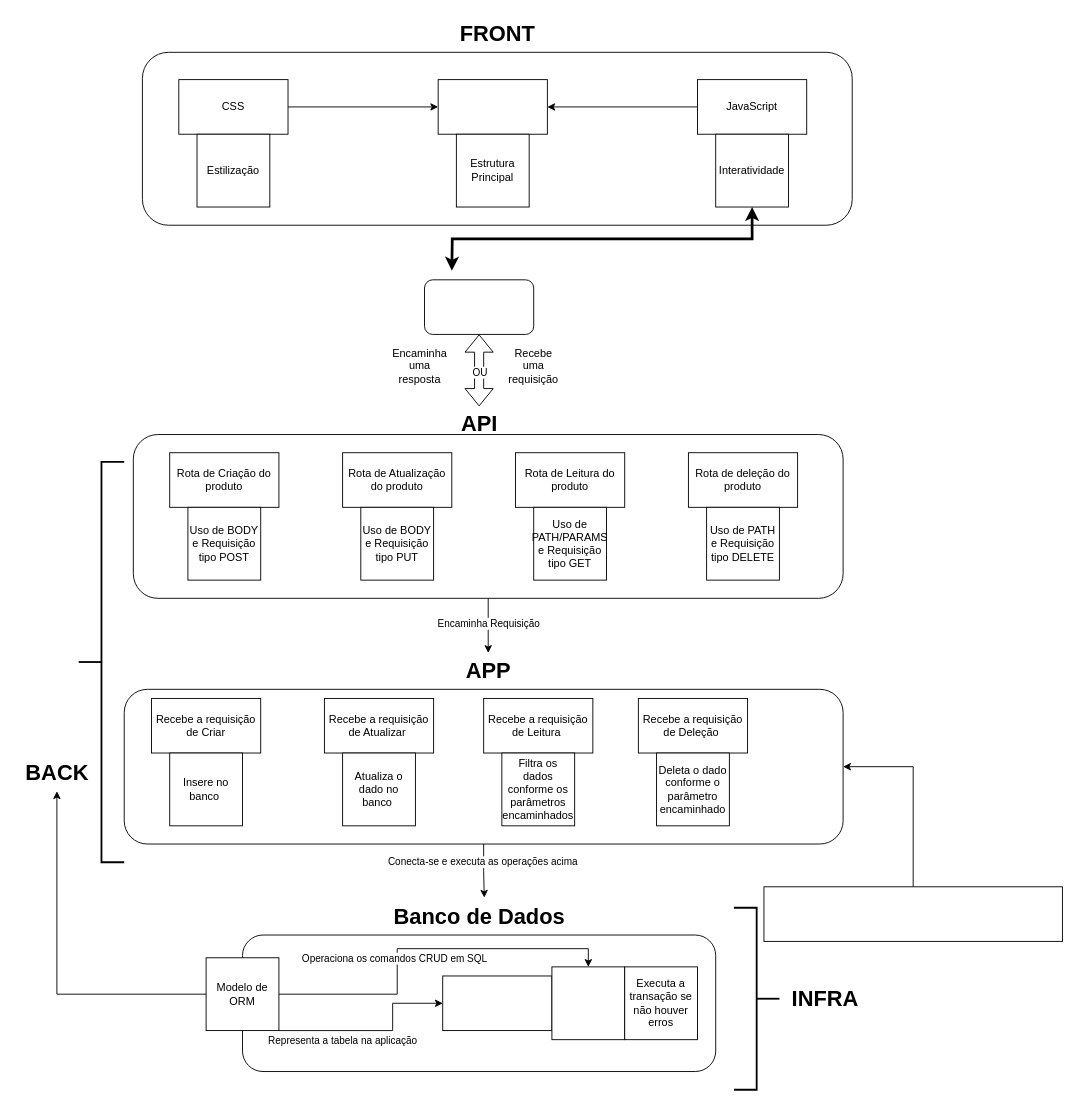
This 1078x1106 diagram has some shape labels left out. Each missing label, with the centre of its shape:
"HTML" goes at point (492, 106).
"Recebe script sql" goes at point (588, 1003).
"Requisição HTTPs (Payload)" goes at point (479, 306).
"SELECT [ COLUNAS] FROM [ PRODUTO] WHERE NOME like %[ BUSCA ]%" goes at point (912, 913).
"Tabela de Produtos" goes at point (497, 1003).
